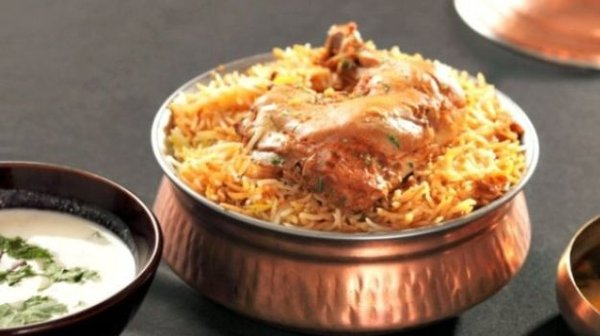sushi: (146, 22, 545, 307), (0, 160, 163, 333)
